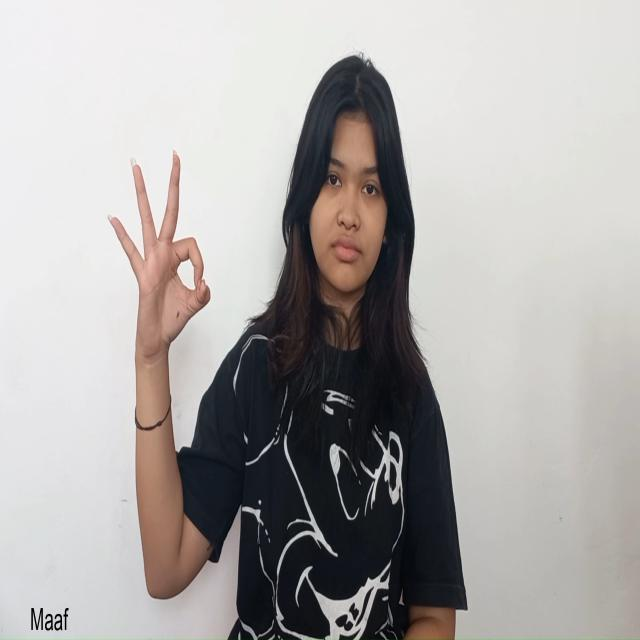Maaf -BISINDO-: (106, 145, 212, 376)
